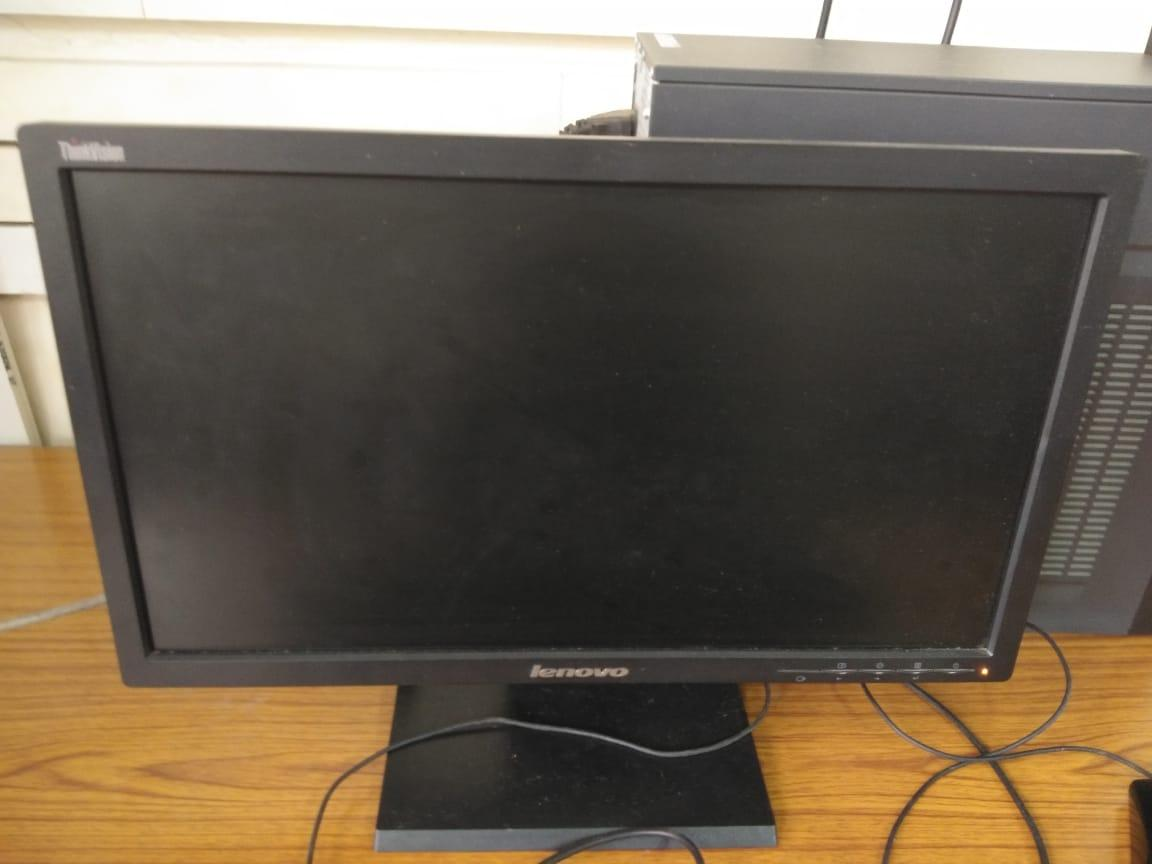monitor: (10, 109, 1149, 859)
